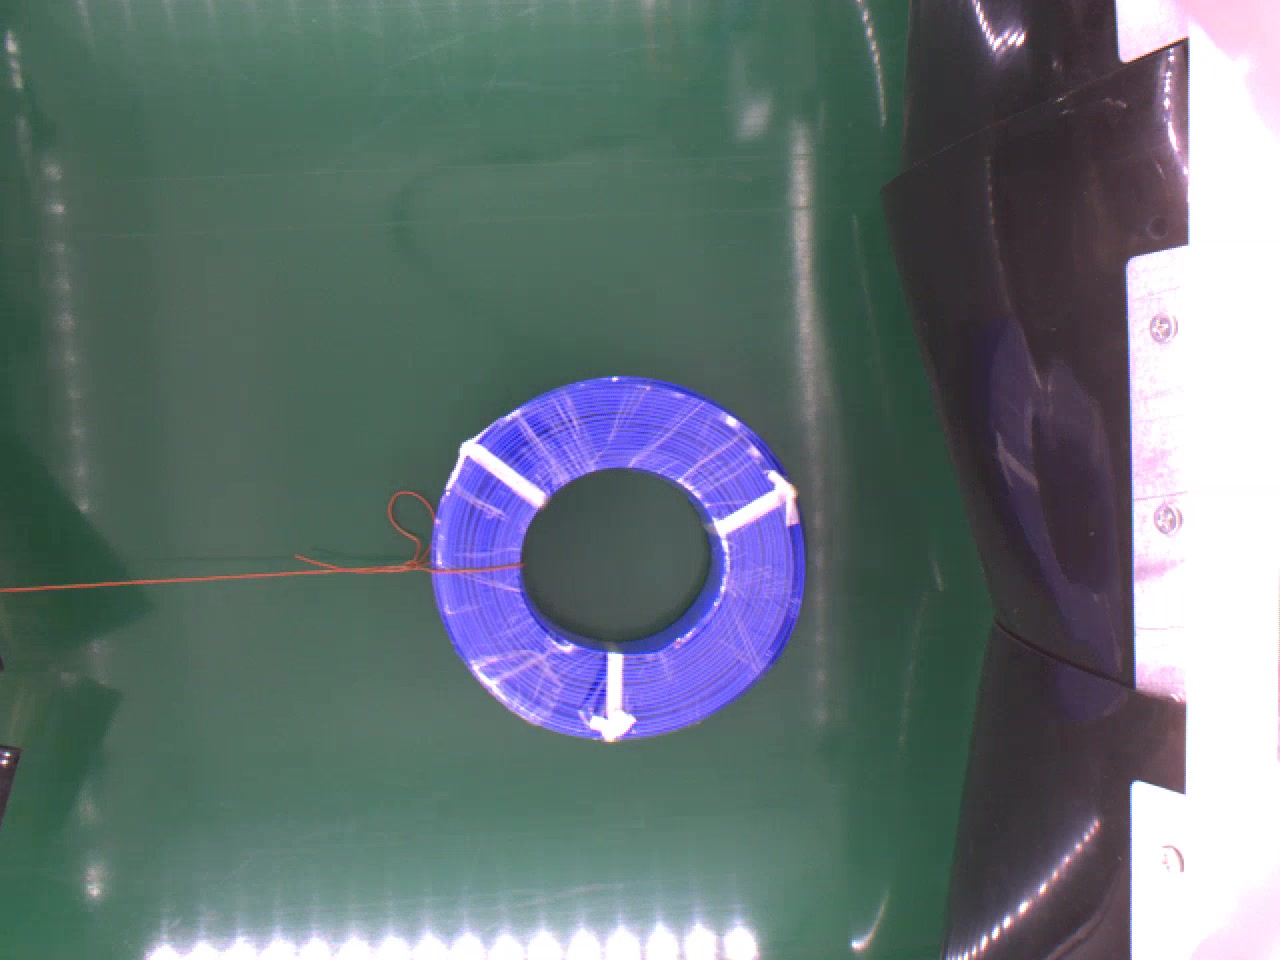blue: (430, 375, 808, 733)
